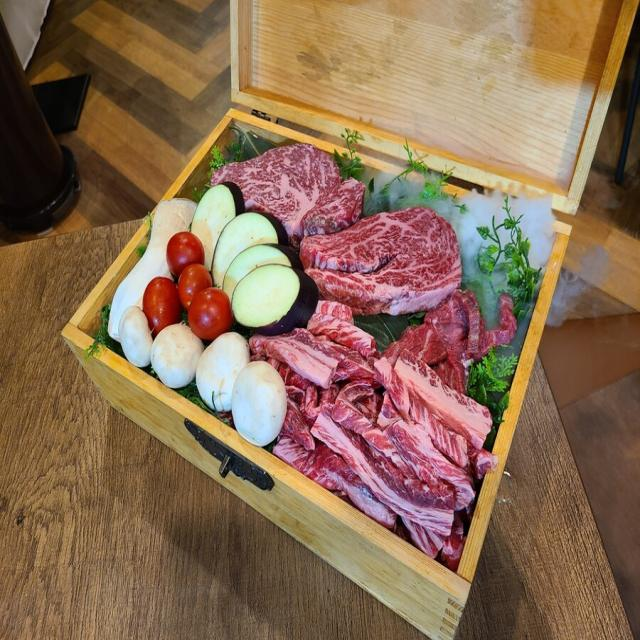beef: (341, 379, 448, 502), (349, 220, 431, 284)
